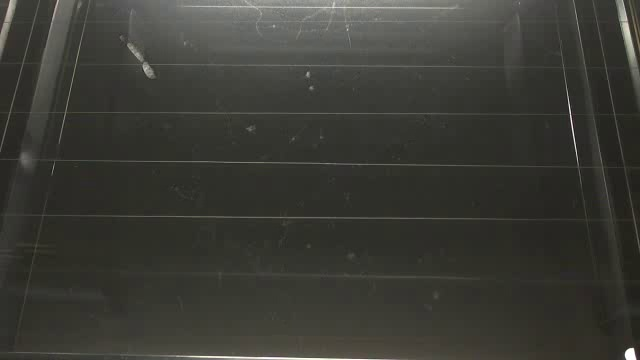Alfa: (127, 42, 156, 81)
